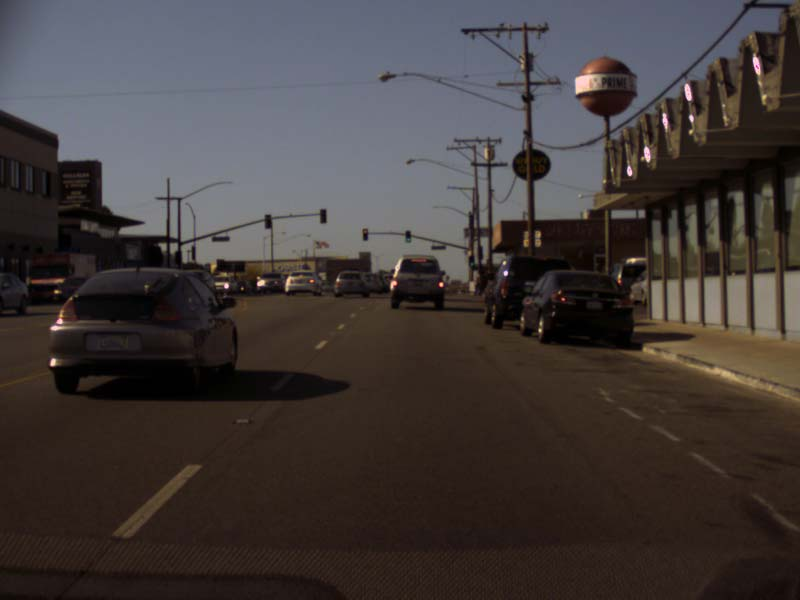Green: (404, 231, 410, 242), (469, 256, 474, 266)
Red: (362, 227, 367, 239)
